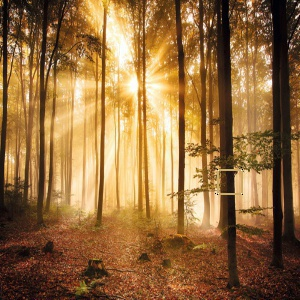square: (214, 167, 245, 198)
